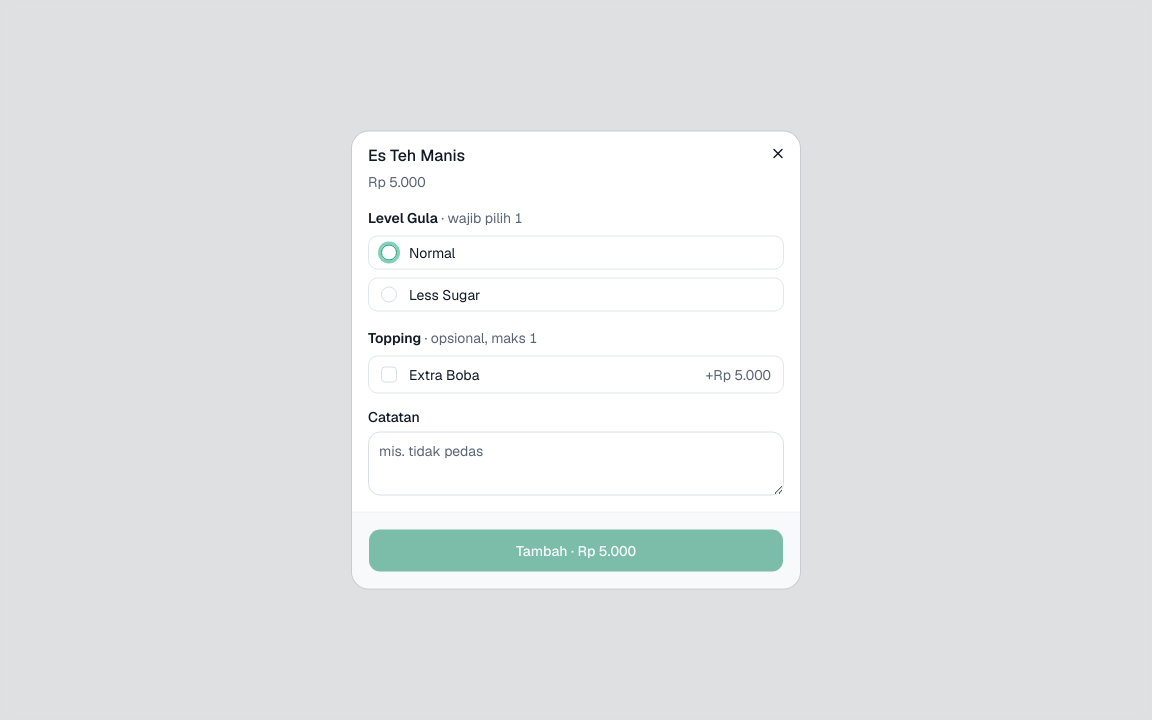
Test: LineEditorDialog › shows the unit price including chosen add-ons
Click the radio button named "Normal" next to "Normal" at (389, 252), box [381,244,397,260]
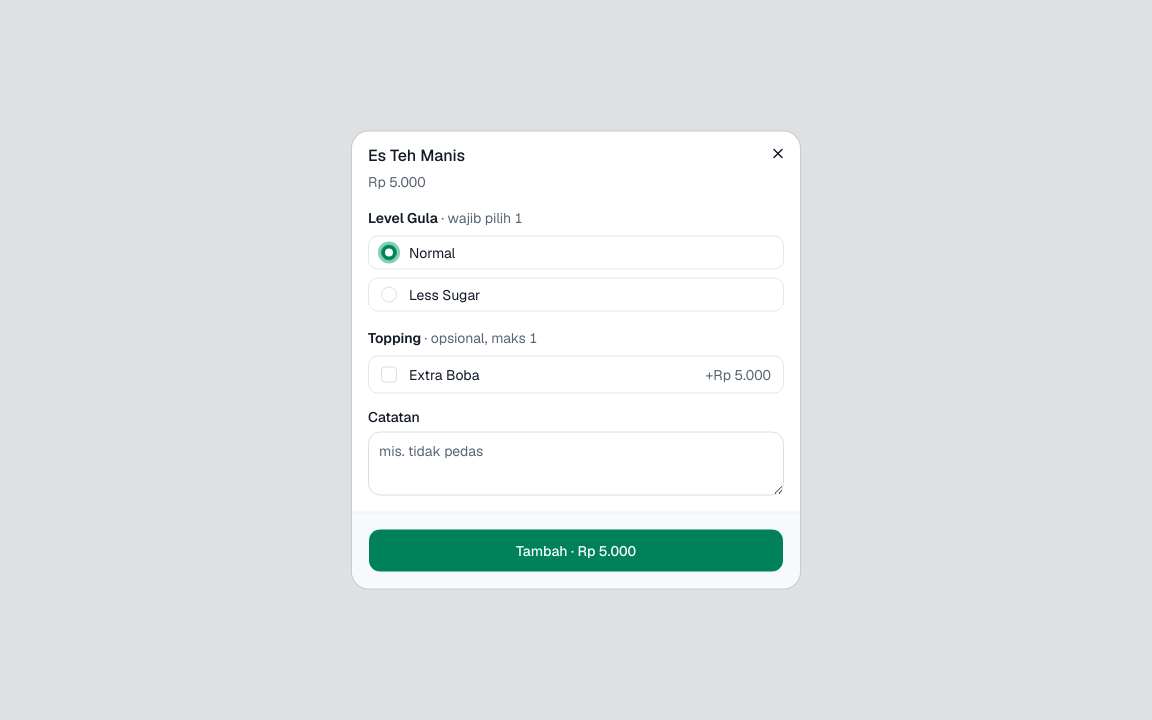
Click the checkbox named "Extra Boba" at (389, 374), box [381,366,397,382]
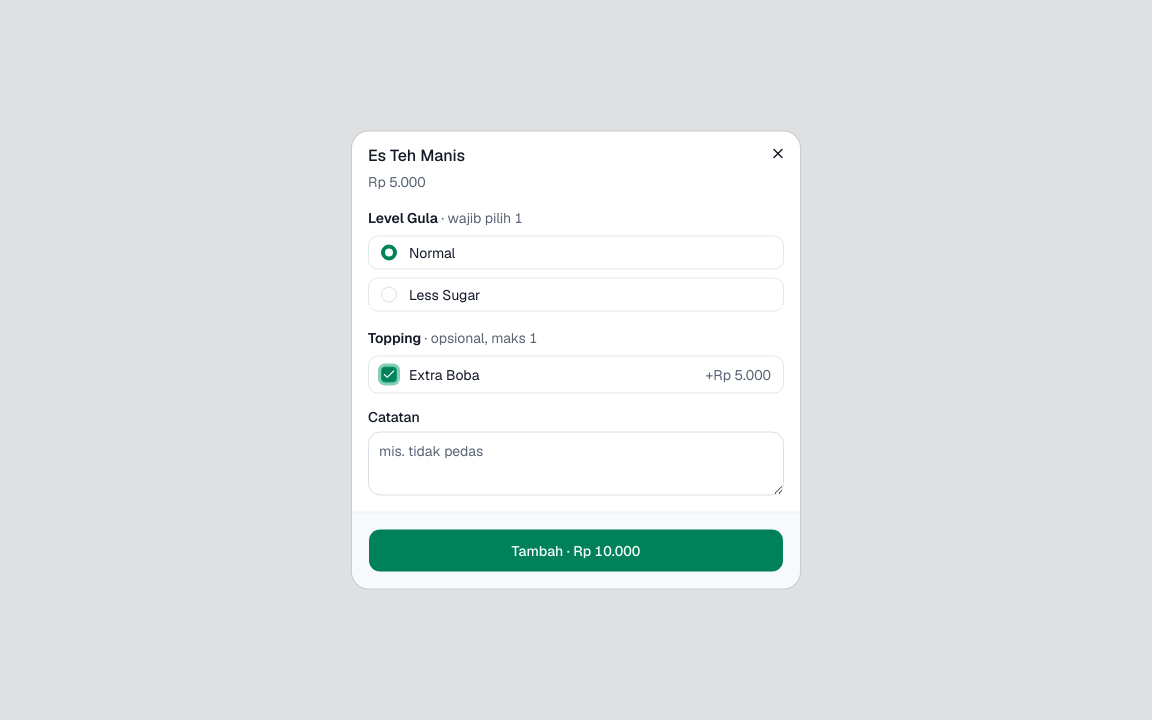
Now the button "Tambah · Rp 10.000" is shown, box [368,528,784,572]
